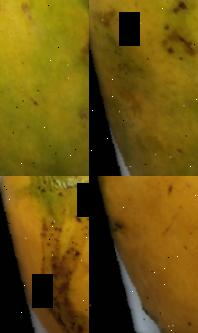PartiallyRipe: (89, 0, 198, 176), (0, 0, 89, 176)
Ripe: (89, 176, 198, 333), (0, 176, 89, 333)
